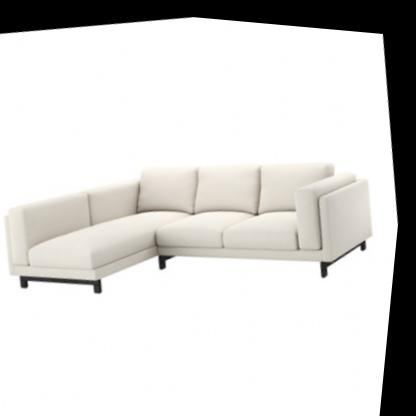Sofa: (0, 110, 394, 330)
